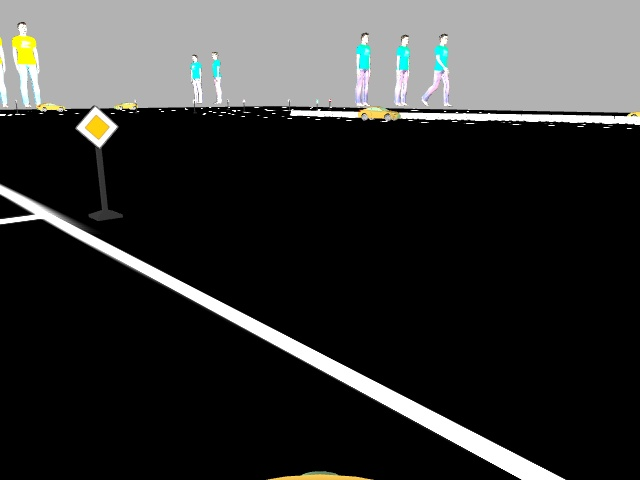Priority: (77, 105, 118, 147)
